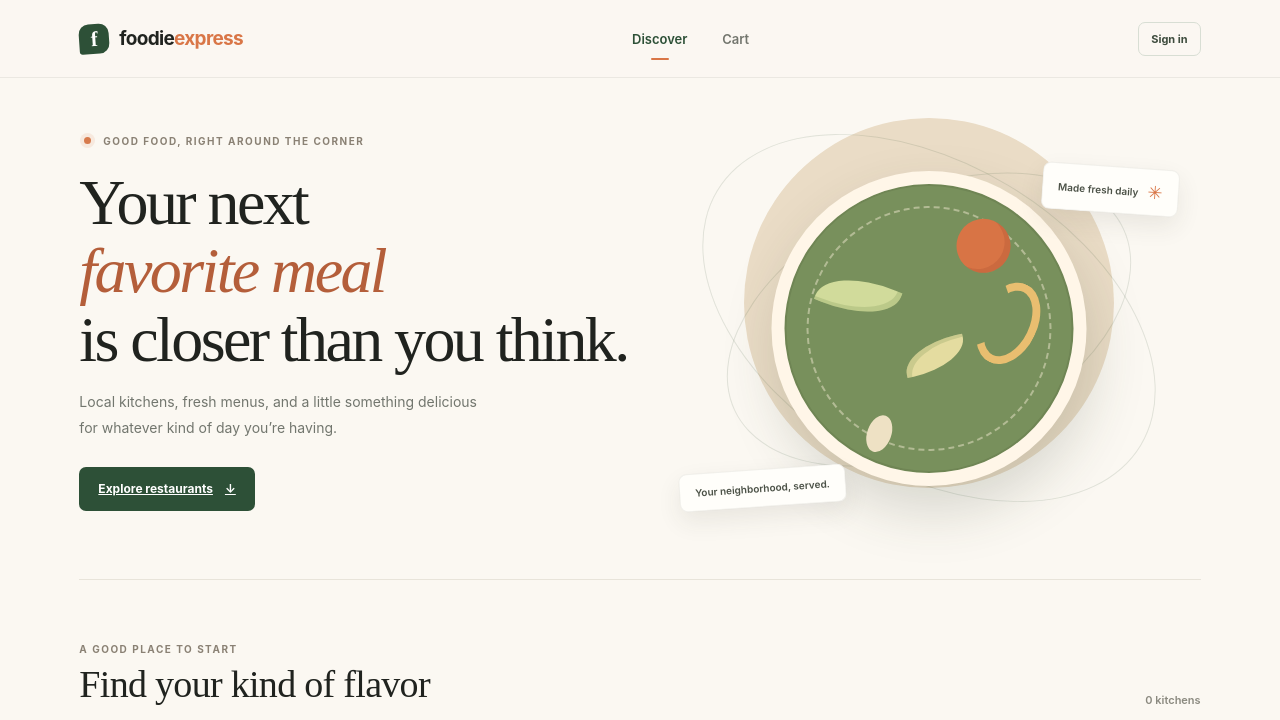
Test case: FoodieExpress UI › shows backend credential errors once without an expired-session notification
Click the button "Sign in".
click(1169, 38)  # box 1138,22 -> 1201,56
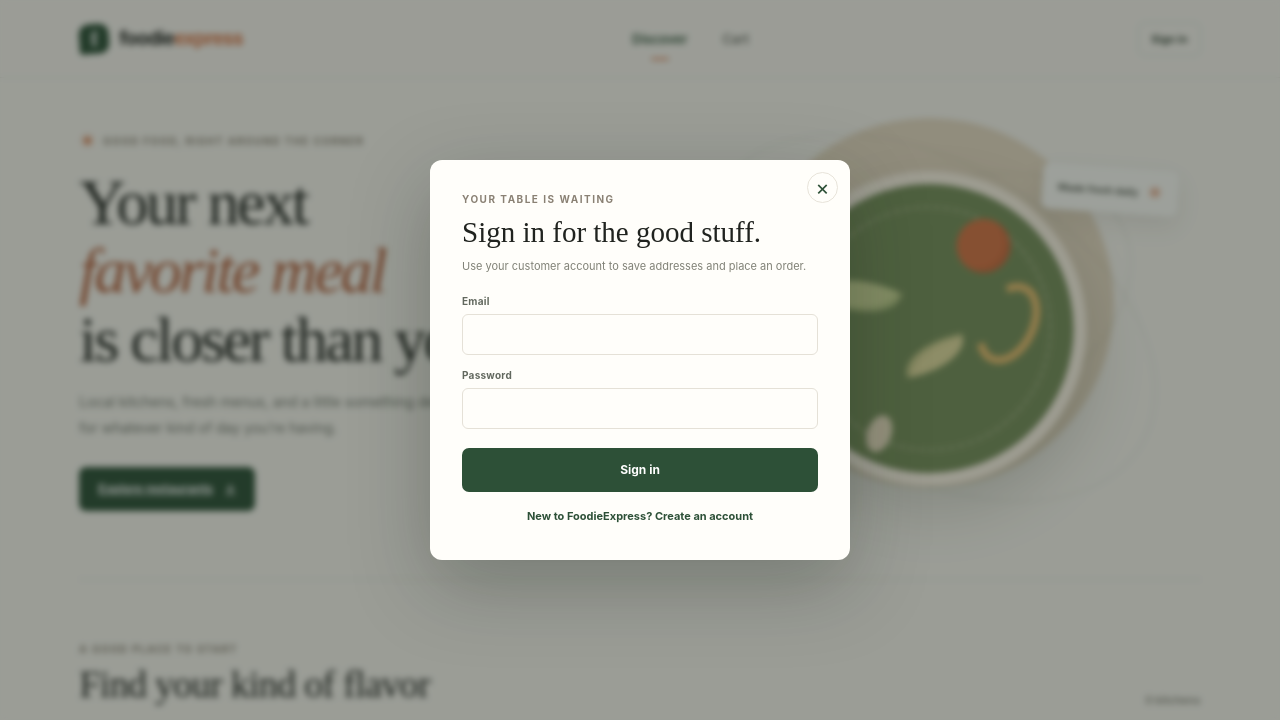
Type "customer@example.test" into the field labelled "Email".
click(640, 334); type("customer@example.test")  # box 462,314 -> 818,355
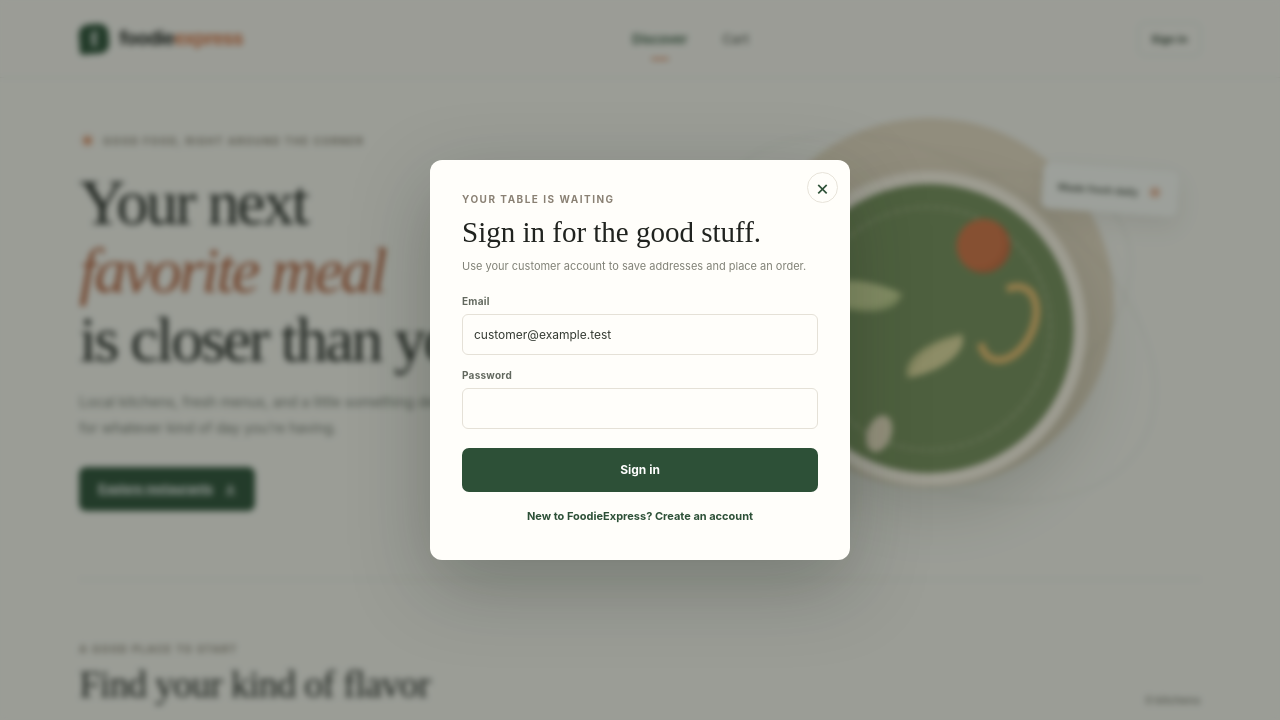
Type "wrong-password" into the password field labelled "Password".
click(640, 408); type("wrong-password")  # box 462,388 -> 818,429
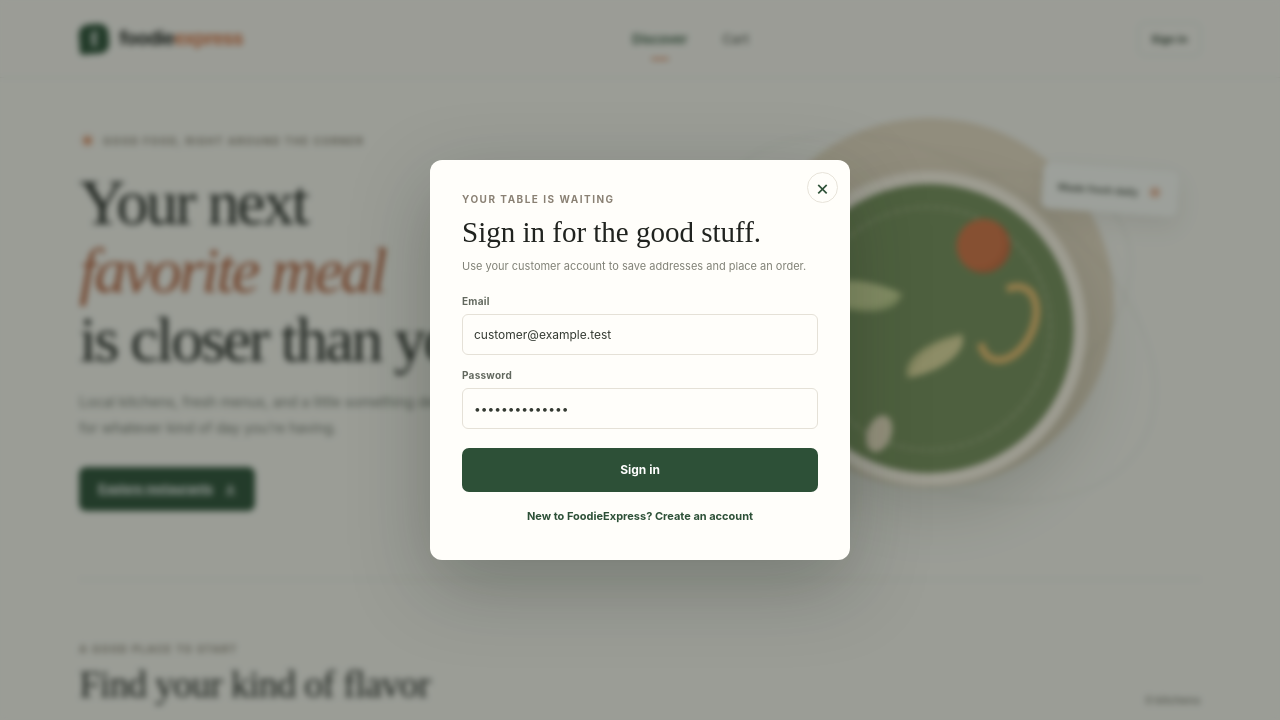
Click the button "Sign in".
click(640, 470)  # box 462,448 -> 818,492
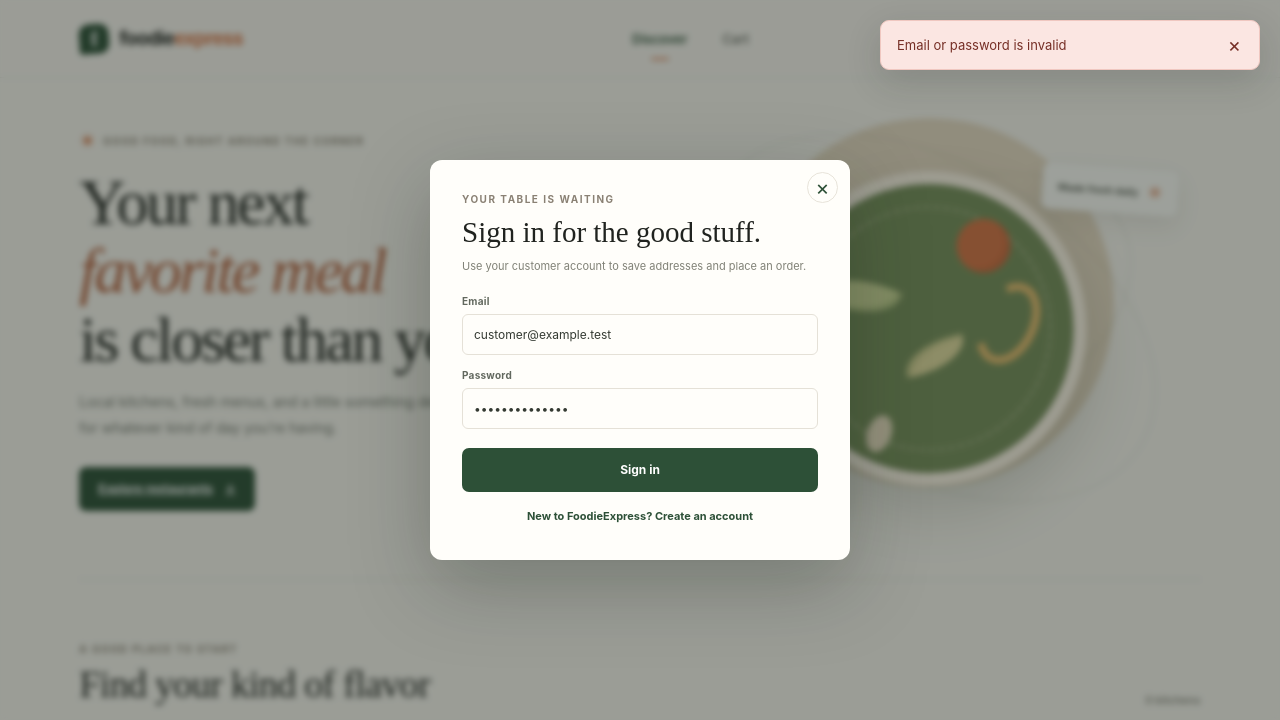
Now the dialog named "Sign in or register" is shown, box 430,160 -> 850,560
Now the message shows "Email or password is invalid", box 897,37 -> 1066,53
Now the number of messages is 1, box 880,20 -> 1260,70
